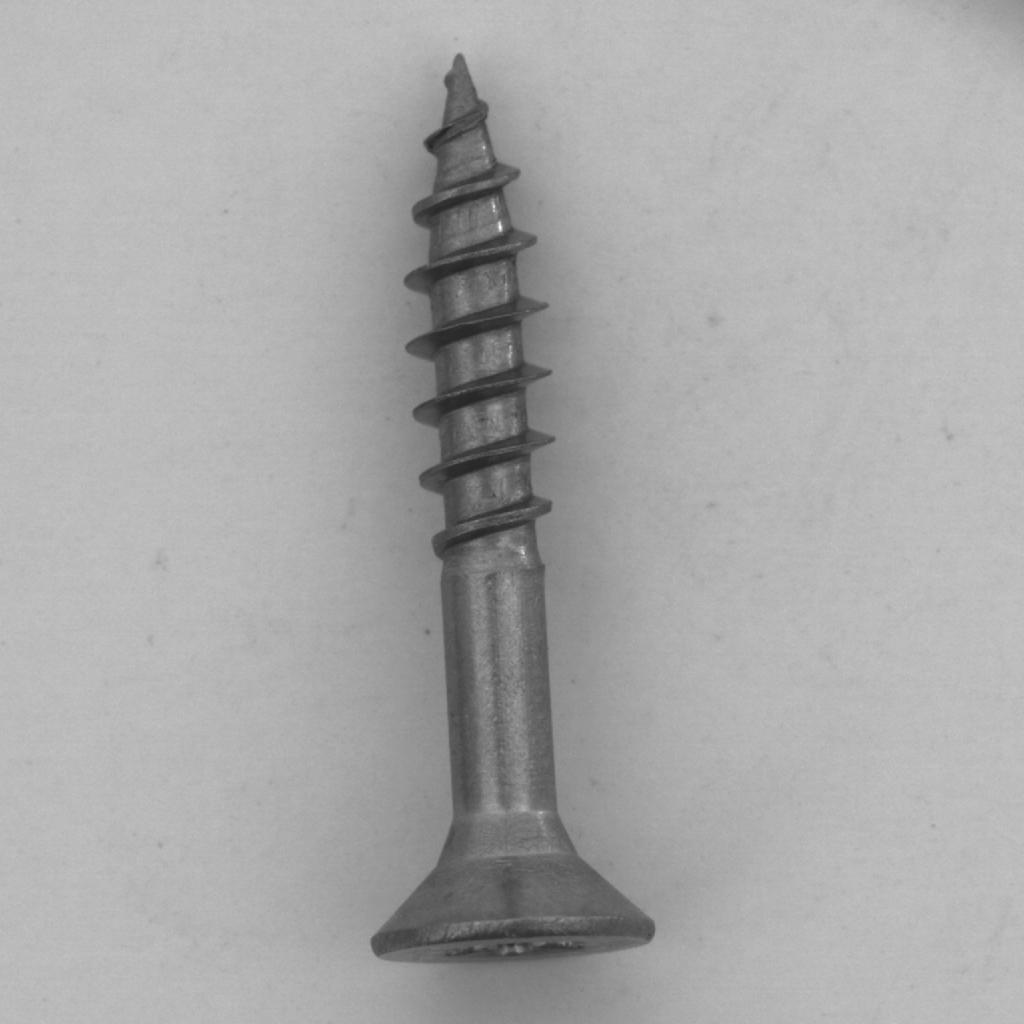good: (356, 39, 668, 981)
